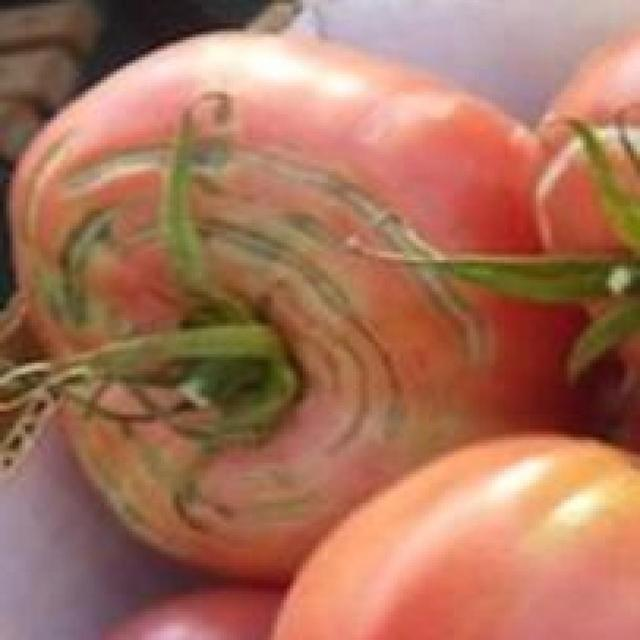Cracking Fruit: (28, 88, 305, 316)
